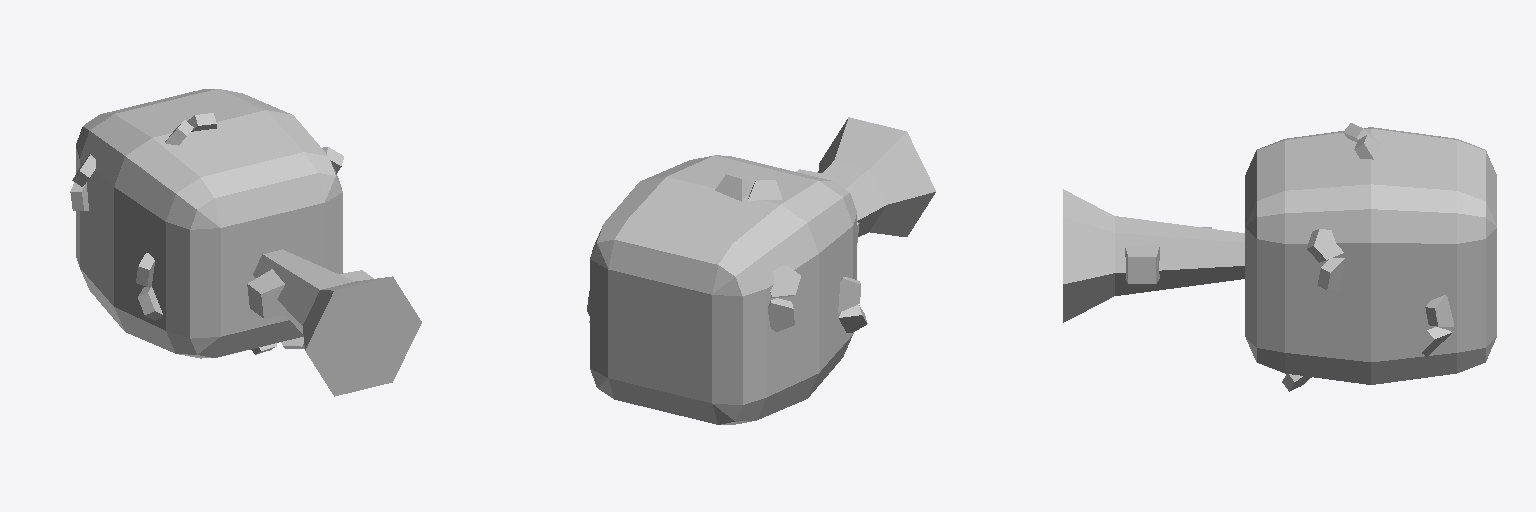
File: tree-snow.004.obj
3 renders of one model, left to right at view 1: azimuth 30°, elevation 25°; view 2: azimuth 150°, elevation 25°; view 3: azimuth 270°, elevation 25°, orthographic.
Visible parts, largest first — view 1: tree-snow.004; view 2: tree-snow.004; view 3: tree-snow.004.
Boxes of the visible parts, x1=… form: tree-snow.004: x1=70, y1=89, x2=421, y2=396; tree-snow.004: x1=587, y1=117, x2=935, y2=424; tree-snow.004: x1=1063, y1=123, x2=1496, y2=391.
Size of the model in its own units: 1.09 by 1.11 by 1.93.